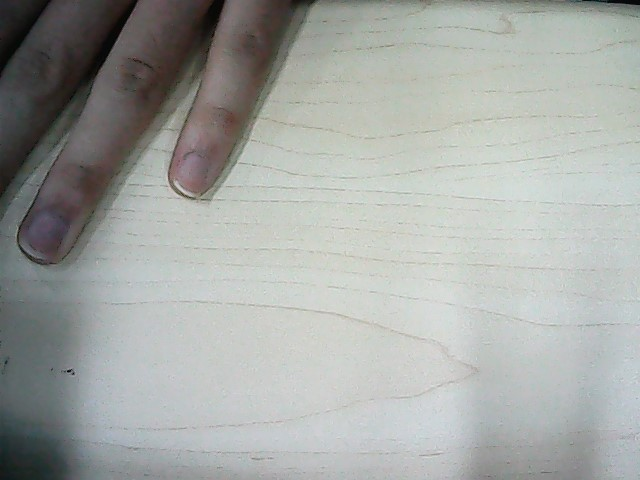nail: (20, 206, 67, 256), (171, 151, 209, 196)
